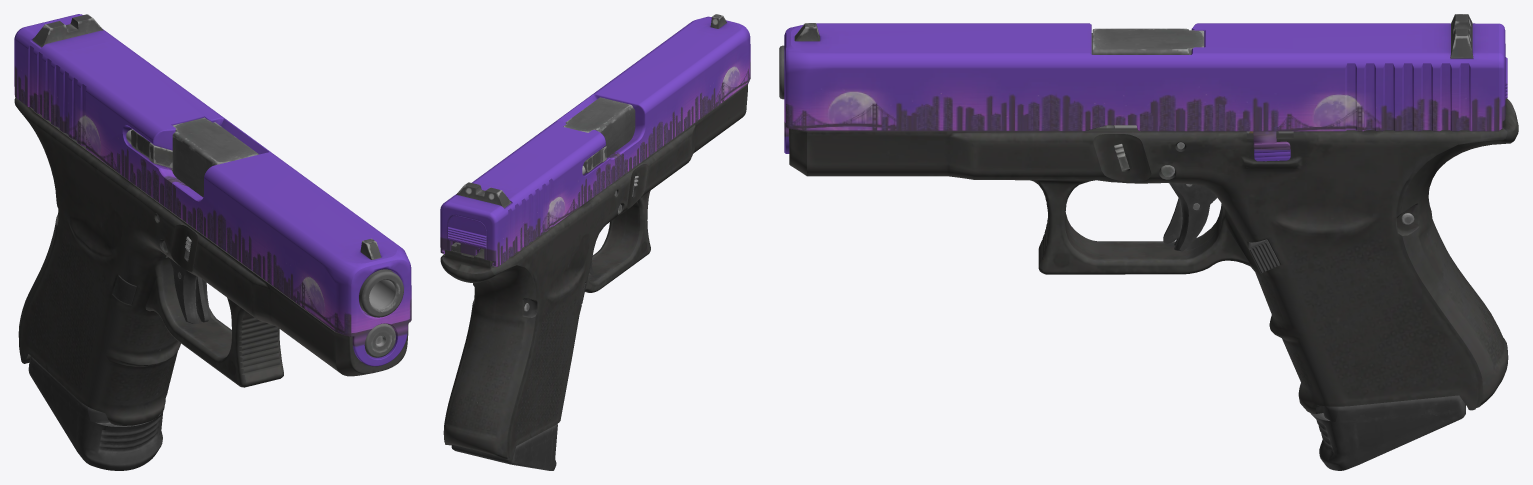
Rendered from glock-moonrise.glb.
The picture shows the model from 3 angles, left to right: view 1: azimuth 30°, elevation 25°; view 2: azimuth 150°, elevation 25°; view 3: azimuth 270°, elevation 25°; orthographic projection. The views are drawn at different scales.
Visible parts, largest first — view 1: weapons\models\glock18\weapon_pist_glock18.vmdl_c.body_hd; view 2: weapons\models\glock18\weapon_pist_glock18.vmdl_c.body_hd; view 3: weapons\models\glock18\weapon_pist_glock18.vmdl_c.body_hd.
Part boxes in pixels (x1=…): weapons\models\glock18\weapon_pist_glock18.vmdl_c.body_hd: x1=14, y1=14, x2=411, y2=470; weapons\models\glock18\weapon_pist_glock18.vmdl_c.body_hd: x1=440, y1=14, x2=750, y2=470; weapons\models\glock18\weapon_pist_glock18.vmdl_c.body_hd: x1=779, y1=14, x2=1518, y2=470.
Size of the model in its own units: 0.0306 by 0.1309 by 0.2016.
1 material, 1 textured.
